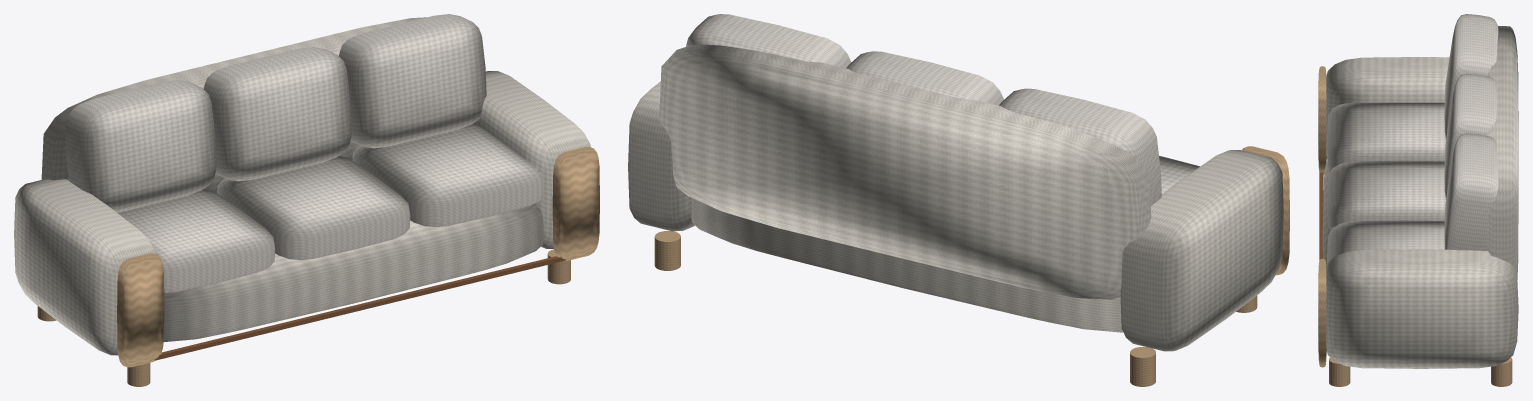
3 views of the same model, side by side, from view 1: azimuth 30°, elevation 25°; view 2: azimuth 150°, elevation 25°; view 3: azimuth 270°, elevation 25° (orthographic). The views are drawn at different scales.
Visible parts, largest first — view 1: 5 base_frame, 11 back_cushion_left, 12 back_cushion_center, 13 back_cushion_right, 14 armrest_left, 8 seat_cushion_center, 9 seat_cushion_right, 7 seat_cushion_left, 15 armrest_right, 16 armrest_wood_trim_left, 17 armrest_wood_trim_right, 10 backrest_frame (+3 smaller); view 2: 10 backrest_frame, 14 armrest_left, 5 base_frame, 15 armrest_right, 11 back_cushion_left, 13 back_cushion_right, 12 back_cushion_center, 16 armrest_wood_trim_left, 4 leg_back_right, 3 leg_back_left, 7 seat_cushion_left; view 3: 15 armrest_right, 8 seat_cushion_center, 7 seat_cushion_left, 10 backrest_frame, 14 armrest_left, 13 back_cushion_right, 9 seat_cushion_right, 11 back_cushion_left, 12 back_cushion_center, 17 armrest_wood_trim_right, 16 armrest_wood_trim_left, 4 leg_back_right (+3 smaller).
Boxes of the visible parts, x1,y1,x2,y2 form: 5 base_frame: (163,203,543,341); 11 back_cushion_left: (65,80,216,212); 12 back_cushion_center: (203,47,351,181); 13 back_cushion_right: (339,14,486,148); 14 armrest_left: (14,179,155,355); 8 seat_cushion_center: (217,155,410,259); 9 seat_cushion_right: (352,123,544,226); 7 seat_cushion_left: (117,188,275,292); 15 armrest_right: (474,71,591,248); 16 armrest_wood_trim_left: (117,253,164,367); 17 armrest_wood_trim_right: (552,147,599,260); 10 backrest_frame: (41,17,426,193); 10 backrest_frame: (659,44,1151,299); 14 armrest_left: (1120,150,1283,351); 5 base_frame: (691,198,1122,332); 15 armrest_right: (628,81,695,231); 11 back_cushion_left: (999,88,1161,205); 13 back_cushion_right: (686,14,851,68); 12 back_cushion_center: (846,51,1003,105); 16 armrest_wood_trim_left: (1242,146,1289,275); 4 leg_back_right: (654,231,680,270); 3 leg_back_left: (1130,347,1155,386); 7 seat_cushion_left: (1159,156,1199,193); 15 armrest_right: (1326,249,1518,368); 8 seat_cushion_center: (1327,160,1445,230); 7 seat_cushion_left: (1327,102,1445,170); 10 backrest_frame: (1487,26,1518,280); 14 armrest_left: (1326,57,1449,159); 13 back_cushion_right: (1444,133,1498,250); 9 seat_cushion_right: (1327,220,1444,265); 11 back_cushion_left: (1444,14,1498,139); 12 back_cushion_center: (1444,73,1496,199); 17 armrest_wood_trim_right: (1318,258,1326,367); 16 armrest_wood_trim_left: (1318,66,1326,174); 4 leg_back_right: (1491,357,1512,386).
Bounding box in the file's own units: 2.38 × 1 × 0.93.
4 materials, 3 textured.
